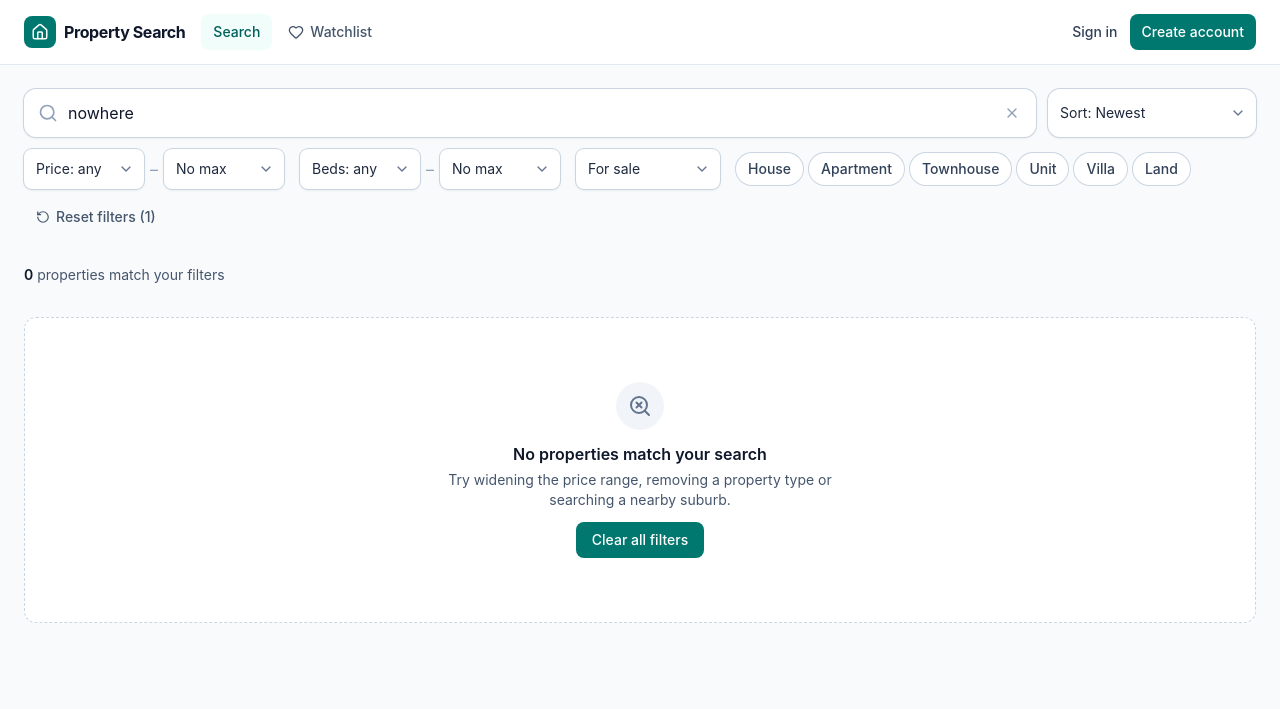
it: SearchPage › offers to clear filters when nothing matches
What coordinates should you click on to do the following:
click the button "Clear all filters"
I would click on:
 (640, 540)
Its box is [576,522,704,558].
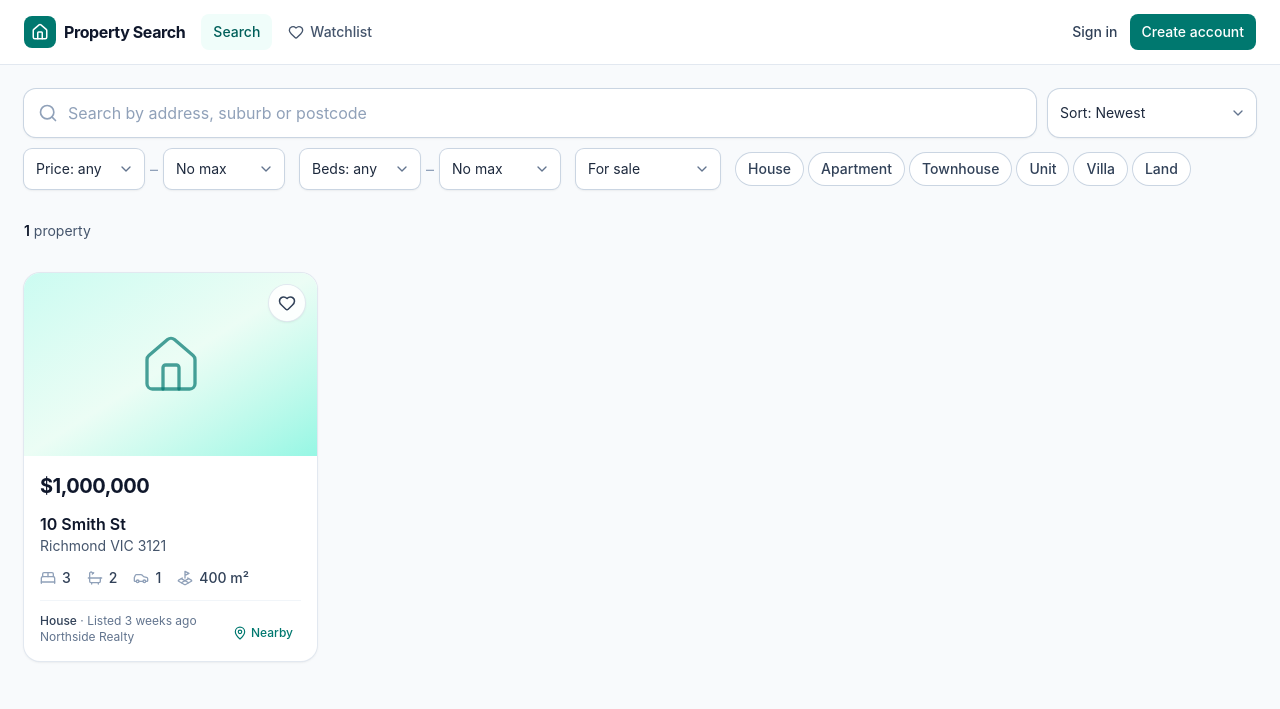
Check: the element named "10 Smith St, Richmond VIC 3121" is shown, box [24,273,317,661]
